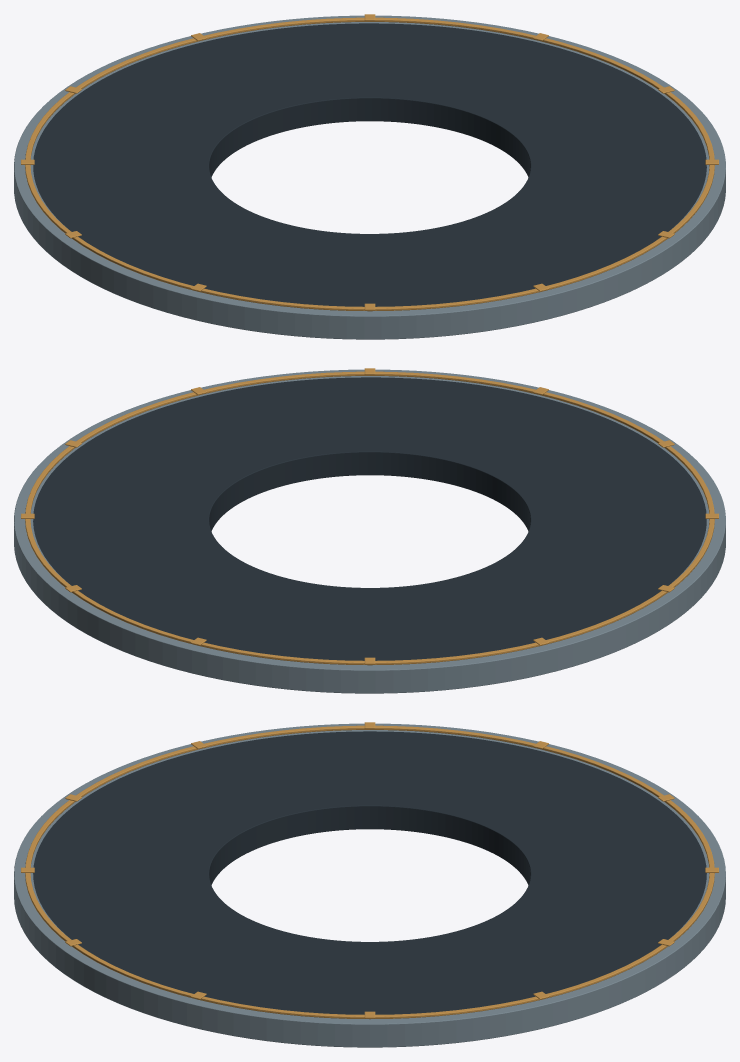
File: SM_Lab_Dais.fbx
3 views of the same model, one above another, from view 1: azimuth 30°, elevation 25°; view 2: azimuth 150°, elevation 25°; view 3: azimuth 270°, elevation 25° (orthographic).
Parts seen in each view (by area): view 1: SM_Lab_Dais; view 2: SM_Lab_Dais; view 3: SM_Lab_Dais.
Boxes of the visible parts, x1,y1,x2,y2 form: SM_Lab_Dais: (14,14,725,339); SM_Lab_Dais: (14,368,725,693); SM_Lab_Dais: (14,722,725,1047).
Bounding box in the file's own units: 930 × 930 × 39.9.
